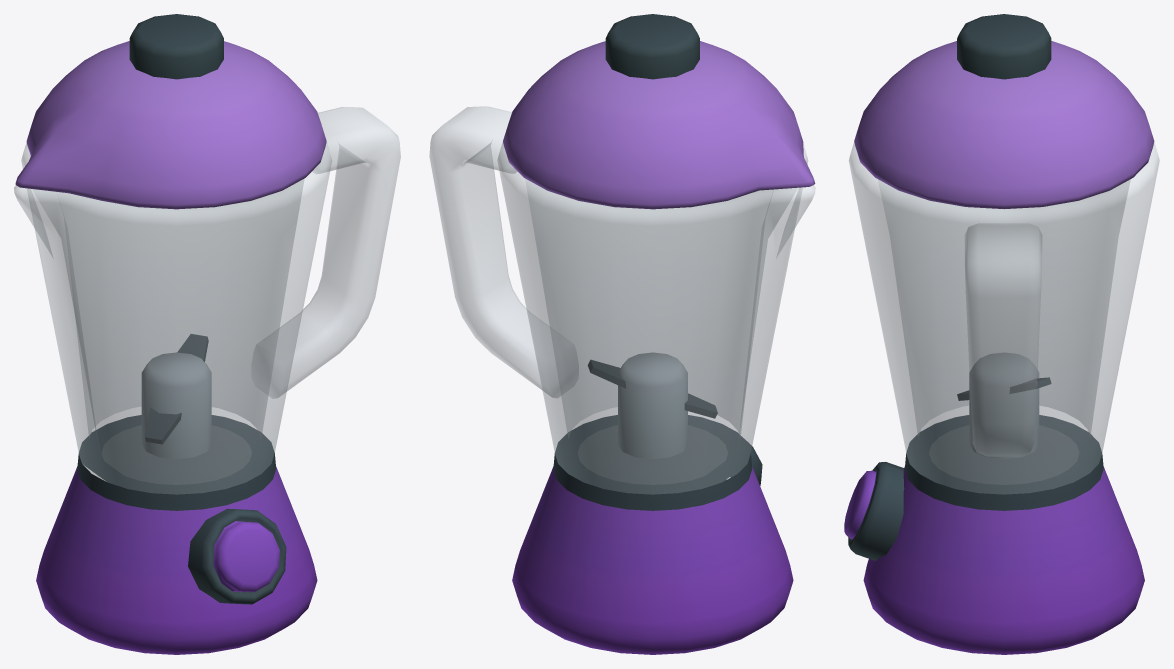
Rendered from Blender_01.glb.
3 views of the same model, side by side, from view 1: azimuth 30°, elevation 25°; view 2: azimuth 150°, elevation 25°; view 3: azimuth 270°, elevation 25° (orthographic).
Visible parts, largest first — view 1: Blender_01; view 2: Blender_01; view 3: Blender_01.
Part boxes in pixels (<box>): Blender_01: <box>14,14,400,654</box>; Blender_01: <box>429,14,815,654</box>; Blender_01: <box>844,14,1159,654</box>.
Size of the model in its own units: 0.2529 by 0.3764 by 0.1854.
Materials: 2 (2 with a texture image).
